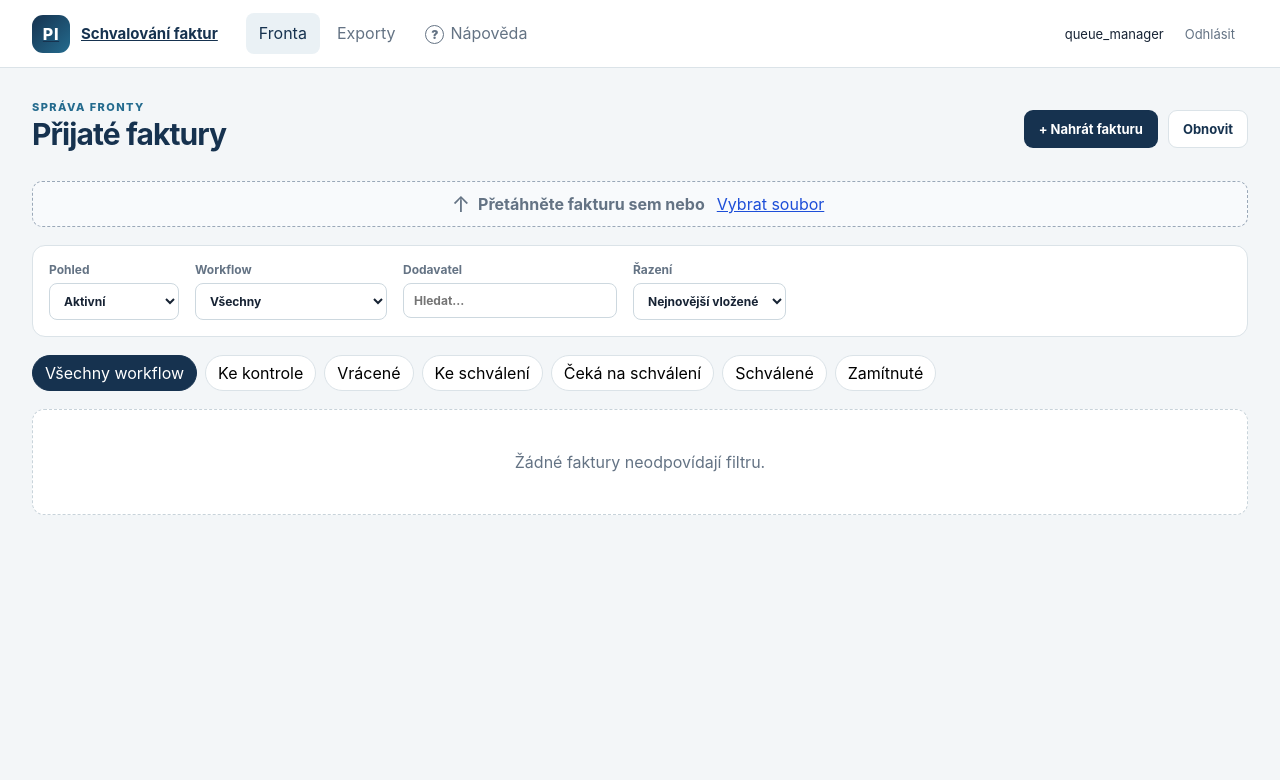
integrated user help › shows the Help navigation and opens it for QUEUE_MANAGER
Click the link "? Nápověda" at (476, 34), box [426, 23, 527, 44]
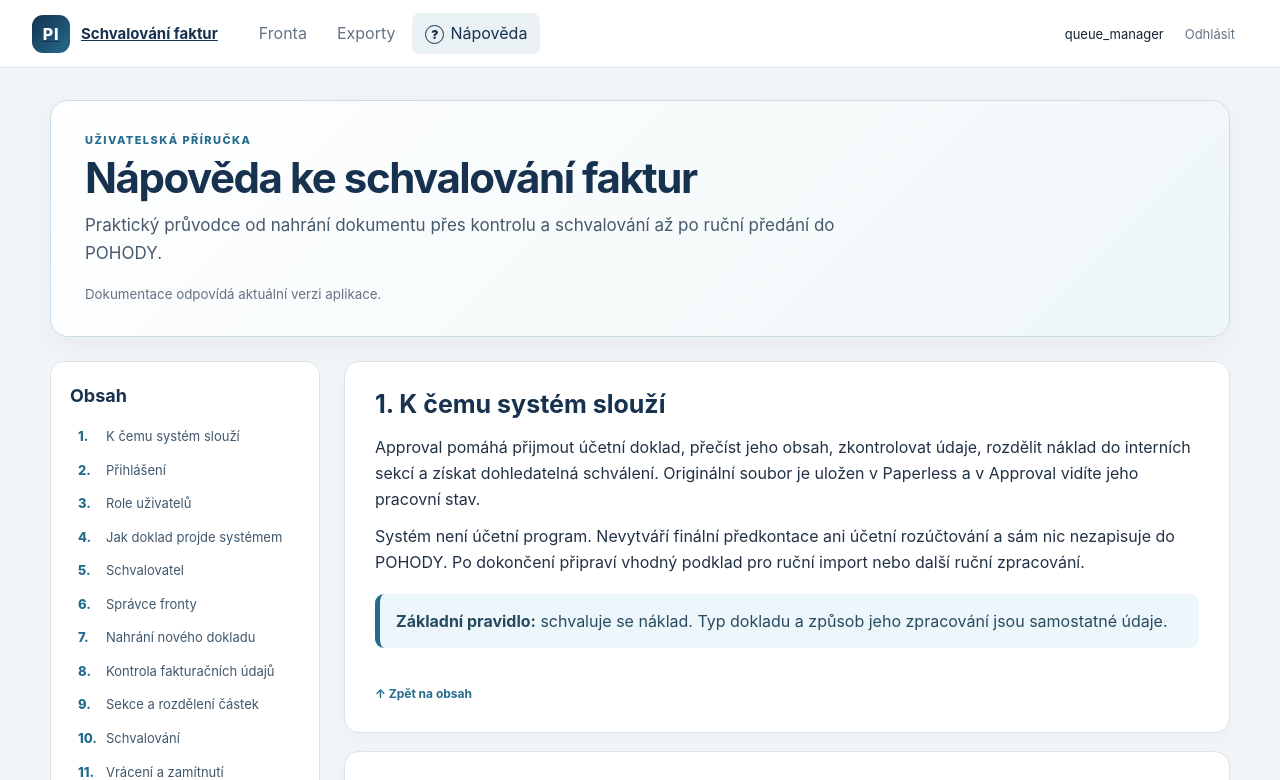
Result: the heading "Nápověda ke schvalování faktur" is shown at [85, 152, 696, 203]
